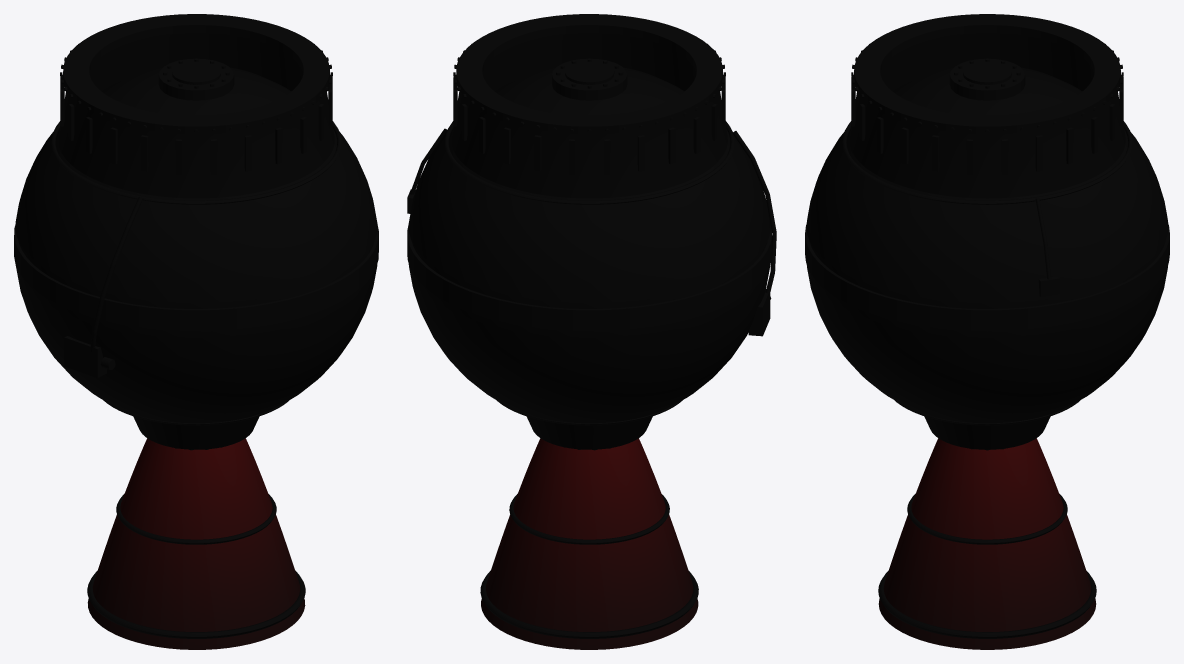
File: eng_solid_kick_motor.fbx
The picture shows the model from 3 angles, left to right: view 1: azimuth 30°, elevation 25°; view 2: azimuth 150°, elevation 25°; view 3: azimuth 270°, elevation 25°; orthographic projection.
Parts seen in each view (by area): view 1: eng_solid_kick_motor_LOD0; view 2: eng_solid_kick_motor_LOD0; view 3: eng_solid_kick_motor_LOD0.
Part boxes in pixels (x1=…): eng_solid_kick_motor_LOD0: x1=14, y1=14, x2=378, y2=649; eng_solid_kick_motor_LOD0: x1=407, y1=14, x2=776, y2=649; eng_solid_kick_motor_LOD0: x1=805, y1=14, x2=1169, y2=649.
Size of what is drawn, in the model's own units: 1.26 by 2.03 by 1.26.
